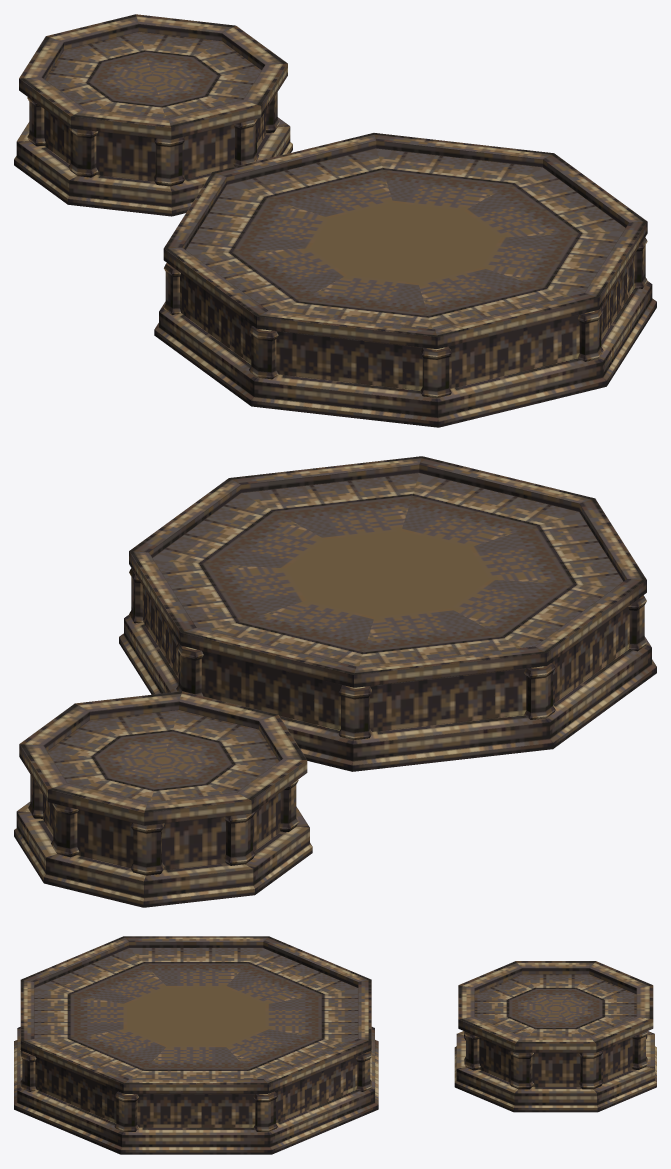
File: EnvMdrMD_Ruins_A_DecorationStand_A.FBX
3 renders of one model, top to bottom at view 1: azimuth 30°, elevation 25°; view 2: azimuth 150°, elevation 25°; view 3: azimuth 270°, elevation 25°, orthographic. The views are drawn at different scales.
Visible parts, largest first — view 1: EnvMdrMD_Ruins_A_DecorationStand_A, EnvMdrMD_Ruins_A_DecorationStand_B; view 2: EnvMdrMD_Ruins_A_DecorationStand_A, EnvMdrMD_Ruins_A_DecorationStand_B; view 3: EnvMdrMD_Ruins_A_DecorationStand_A, EnvMdrMD_Ruins_A_DecorationStand_B.
Boxes of the visible parts, box(x1,y1,x2,y2) form: EnvMdrMD_Ruins_A_DecorationStand_A: box(154, 133, 656, 427); EnvMdrMD_Ruins_A_DecorationStand_B: box(14, 14, 292, 216); EnvMdrMD_Ruins_A_DecorationStand_A: box(119, 456, 656, 771); EnvMdrMD_Ruins_A_DecorationStand_B: box(14, 691, 312, 907); EnvMdrMD_Ruins_A_DecorationStand_A: box(14, 936, 378, 1154); EnvMdrMD_Ruins_A_DecorationStand_B: box(454, 961, 656, 1112).
Size of the model in its own units: 540 by 110 by 953.
1 material, 1 textured.
